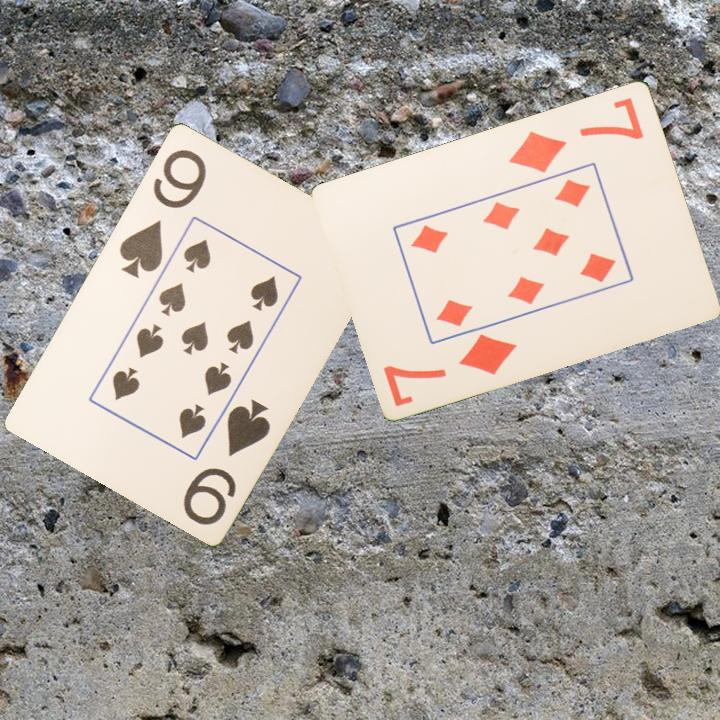7d: (505, 92, 647, 176), (380, 329, 520, 409)
9s: (115, 144, 210, 281), (179, 394, 274, 528)
